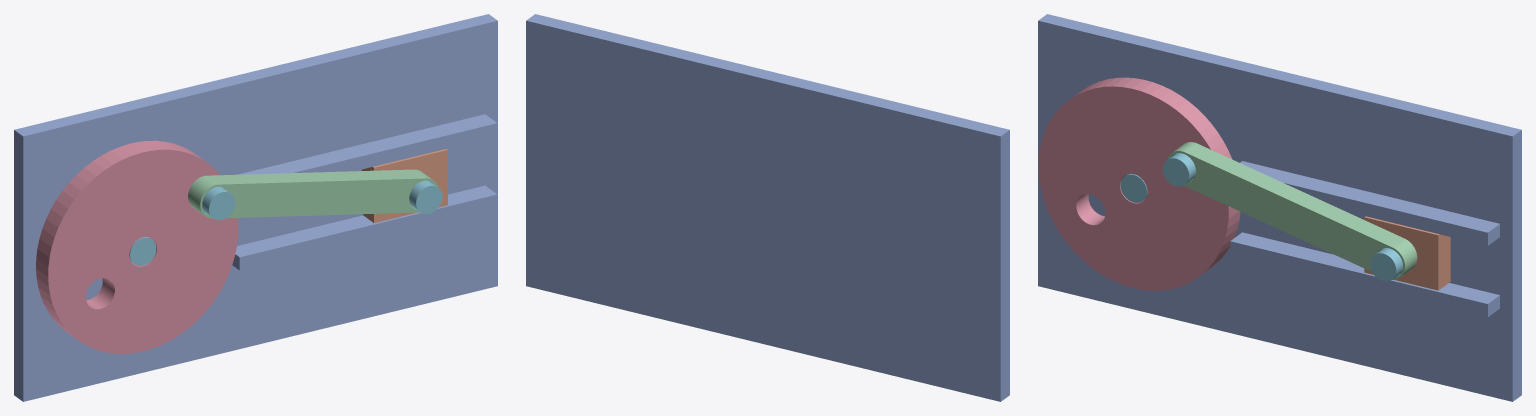
Rendered from slider_crank_demo.glb.
3 renders of one model, left to right at view 1: azimuth 30°, elevation 25°; view 2: azimuth 150°, elevation 25°; view 3: azimuth 330°, elevation 25°, orthographic.
Visible parts, largest first — view 1: base, crank_disc, conrod, slider, pin_2, pin_1, pin_0; view 2: base; view 3: base, crank_disc, conrod, slider, pin_1, pin_2, pin_0.
Boxes of the visible parts, x1,y1,x2,y2 form: base: (14, 14, 497, 401); crank_disc: (36, 140, 238, 353); conrod: (188, 169, 438, 218); slider: (361, 149, 447, 222); pin_2: (409, 180, 442, 213); pin_1: (202, 186, 235, 220); pin_0: (129, 237, 156, 265); base: (526, 14, 1009, 401); base: (1038, 14, 1521, 401); crank_disc: (1038, 77, 1240, 290); conrod: (1167, 142, 1417, 279); slider: (1364, 216, 1450, 290); pin_1: (1163, 153, 1195, 186); pin_2: (1370, 248, 1402, 281); pin_0: (1120, 173, 1147, 202).
Size of the model in its own units: 89.8 by 48 by 13.
